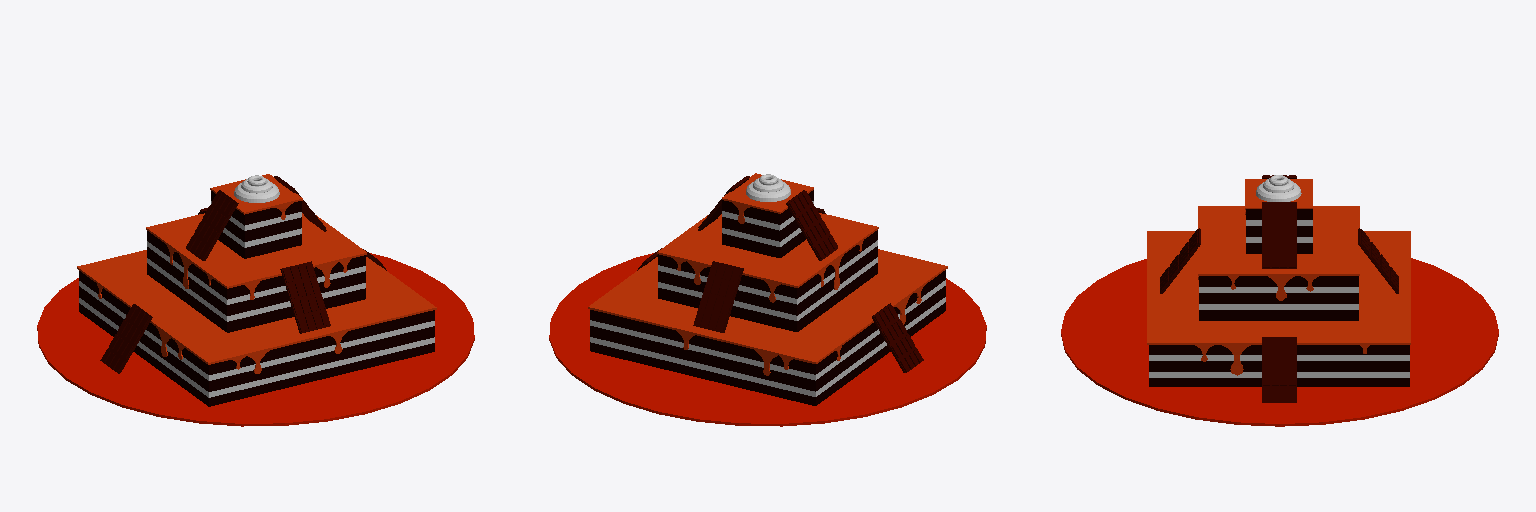
The model's file is cake.obj.
3 renders of one model, left to right at view 1: azimuth 30°, elevation 25°; view 2: azimuth 150°, elevation 25°; view 3: azimuth 270°, elevation 25°, orthographic.
Parts seen in each view (by area): view 1: Cylinder, Cube.011, Cube.005, Cube.008, Cube.010, Cube.006, Cube.019_Cube.022, Cube.004, Cube.002, Cube.009, Cube.007, Cube.021_Cube.024 (+8 smaller); view 2: Cylinder, Cube.011, Cube.005, Cube.008, Cube.010, Cube.006, Cube.022_Cube.025, Cube.004, Cube.002, Cube.009, Cube.007, Cube.021_Cube.024 (+8 smaller); view 3: Cylinder, Cube.011, Cube.005, Cube.008, Cube.020_Cube.023, Cube.018_Cube.027, Cube.010, Cube.006, Cube.004, Cube.002, Cube, Cube.009 (+6 smaller).
Boxes of the visible parts, box(x1,y1,x2,y2) form: Cylinder: box(37, 253, 474, 426); Cube.011: box(77, 250, 436, 373); Cube.005: box(146, 213, 366, 299); Cube.008: box(79, 286, 434, 391); Cube.010: box(79, 303, 434, 406); Cube.006: box(79, 271, 434, 374); Cube.019_Cube.022: box(280, 261, 330, 333); Cube.004: box(147, 263, 365, 332); Cube.002: box(147, 247, 365, 315); Cube.009: box(79, 298, 434, 397); Cube.007: box(79, 281, 434, 380); Cube.021_Cube.024: box(186, 190, 238, 260); Cylinder: box(549, 253, 986, 426); Cube.011: box(588, 249, 947, 375); Cube.005: box(657, 213, 878, 302); Cube.008: box(590, 286, 945, 391); Cube.010: box(590, 302, 945, 405); Cube.006: box(590, 270, 945, 374); Cube.022_Cube.025: box(693, 261, 743, 332); Cube.004: box(658, 263, 877, 331); Cube.002: box(658, 246, 877, 315); Cube.009: box(590, 297, 945, 396); Cube.007: box(590, 280, 945, 380); Cube.021_Cube.024: box(786, 190, 837, 260); Cylinder: box(1061, 258, 1498, 426); Cube.011: box(1147, 231, 1410, 375); Cube.005: box(1198, 206, 1359, 300); Cube.008: box(1149, 361, 1409, 371); Cube.020_Cube.023: box(1262, 202, 1296, 268); Cube.018_Cube.027: box(1262, 337, 1296, 402); Cube.010: box(1149, 378, 1409, 386); Cube.006: box(1149, 345, 1409, 354); Cube.004: box(1199, 310, 1358, 320); Cube.002: box(1199, 293, 1358, 303); Cube: box(1199, 276, 1358, 286); Cube.009: box(1149, 372, 1409, 377).
Size of the model in its own units: 71.06 by 27.93 by 71.06.